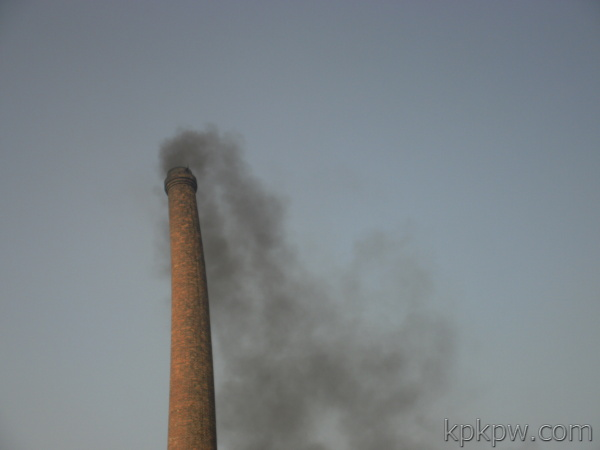dust: (147, 118, 279, 205)
